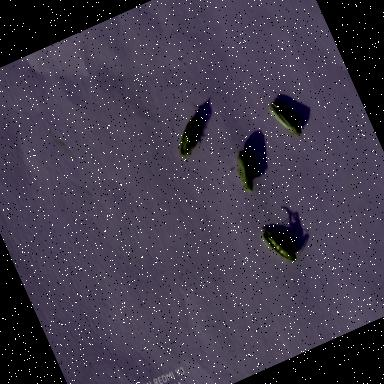pbw: (252, 214, 302, 275), (164, 108, 218, 164), (262, 90, 308, 149), (222, 144, 266, 200)
